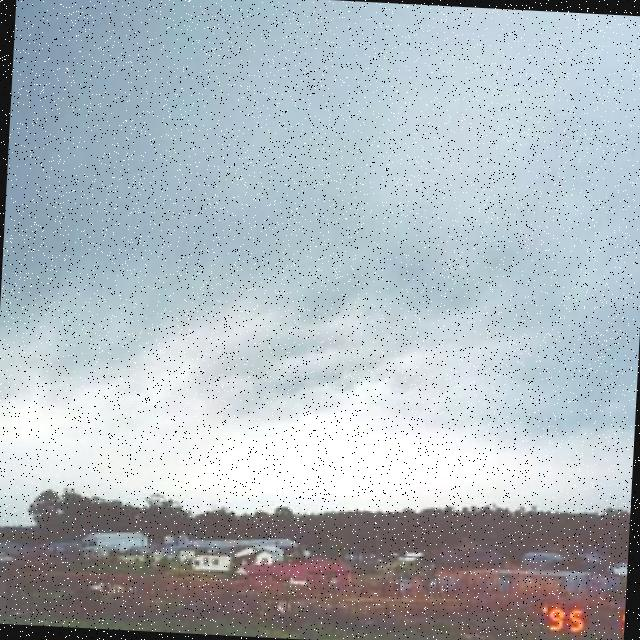Ns: (1, 89, 640, 485)
